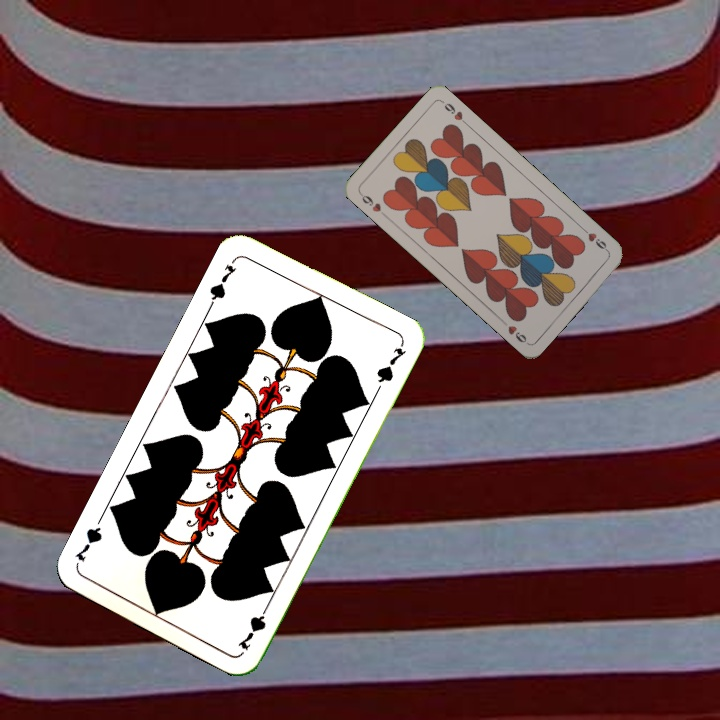G7: (233, 598, 273, 654), (205, 260, 239, 310)
H9: (356, 189, 389, 220), (578, 223, 611, 254)
